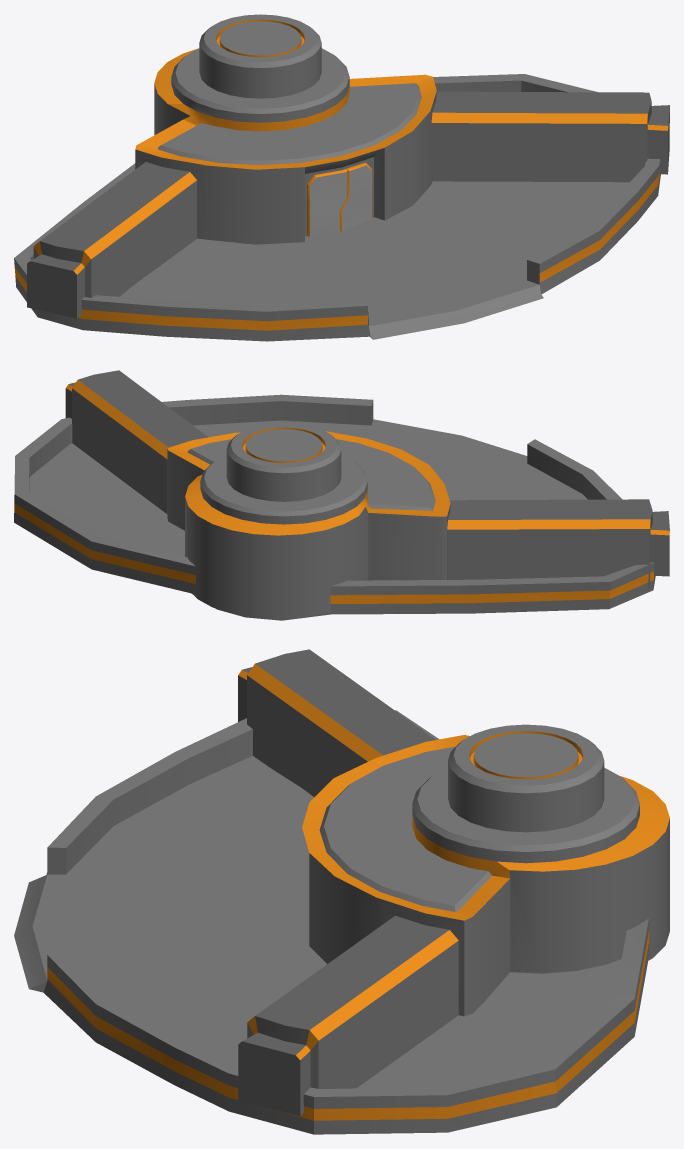
Rendered from Lab.fbx.
The picture shows the model from 3 angles, top to bottom: view 1: azimuth 30°, elevation 25°; view 2: azimuth 150°, elevation 25°; view 3: azimuth 270°, elevation 25°; orthographic projection. The views are drawn at different scales.
Parts seen in each view (by area): view 1: Cylinder, Cylinder.001, Cylinder.002; view 2: Cylinder; view 3: Cylinder.
Part boxes in pixels (x1,y1,x2,y2): Cylinder: (14,14,669,341); Cylinder.001: (307,169,347,236); Cylinder.002: (340,162,372,231); Cylinder: (14,370,669,620); Cylinder: (14,649,669,1134).
Size of the model in its own units: 3456 by 732 by 2388.
